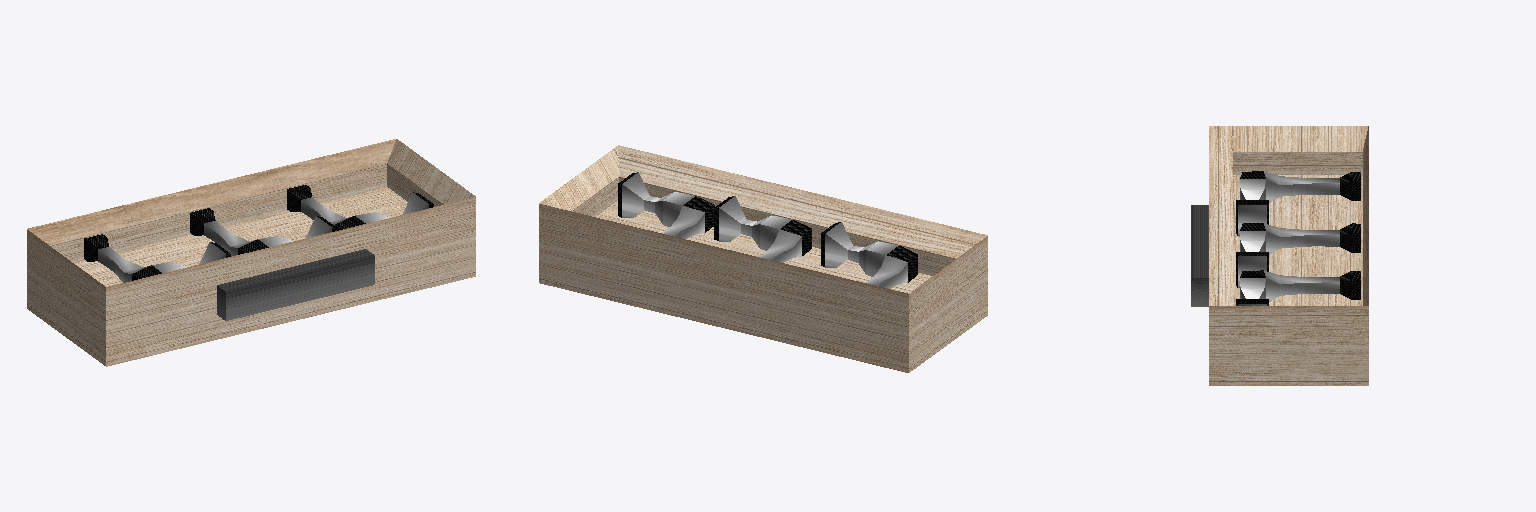
The picture shows the model from 3 angles: view 1: azimuth 30°, elevation 25°; view 2: azimuth 150°, elevation 25°; view 3: azimuth 270°, elevation 25°; orthographic projection.
Parts seen in each view (by area): view 1: Sea:polySurface3 CajonArriba:polySurface81, CajonArriba:polySurface81 Sea:polySurface4, Sea:Mesh1, Sea:Mesh, herramientas3:Mesh; view 2: Sea:polySurface3 CajonArriba:polySurface81, Sea:Mesh, Sea:Mesh1, herramientas3:Mesh; view 3: Sea:polySurface3 CajonArriba:polySurface81, Sea:Mesh1, Sea:Mesh, herramientas3:Mesh, CajonArriba:polySurface81 Sea:polySurface4.
Boxes of the visible parts, x1=… form: Sea:polySurface3 CajonArriba:polySurface81: x1=27, y1=139, x2=475, y2=366; CajonArriba:polySurface81 Sea:polySurface4: x1=217, y1=249, x2=374, y2=320; Sea:Mesh1: x1=84, y1=234, x2=230, y2=282; Sea:Mesh: x1=190, y1=208, x2=336, y2=256; herramientas3:Mesh: x1=287, y1=185, x2=433, y2=230; Sea:polySurface3 CajonArriba:polySurface81: x1=539, y1=145, x2=987, y2=372; Sea:Mesh: x1=714, y1=196, x2=811, y2=262; Sea:Mesh1: x1=821, y1=222, x2=917, y2=288; herramientas3:Mesh: x1=618, y1=172, x2=714, y2=238; Sea:polySurface3 CajonArriba:polySurface81: x1=1209, y1=126, x2=1368, y2=385; Sea:Mesh1: x1=1236, y1=171, x2=1360, y2=235; Sea:Mesh: x1=1236, y1=223, x2=1360, y2=287; herramientas3:Mesh: x1=1236, y1=270, x2=1360, y2=305; CajonArriba:polySurface81 Sea:polySurface4: x1=1191, y1=205, x2=1208, y2=306.
Size of the model in its own units: 2.27 by 0.4671 by 0.9417.
Materials: 4 (3 with a texture image).